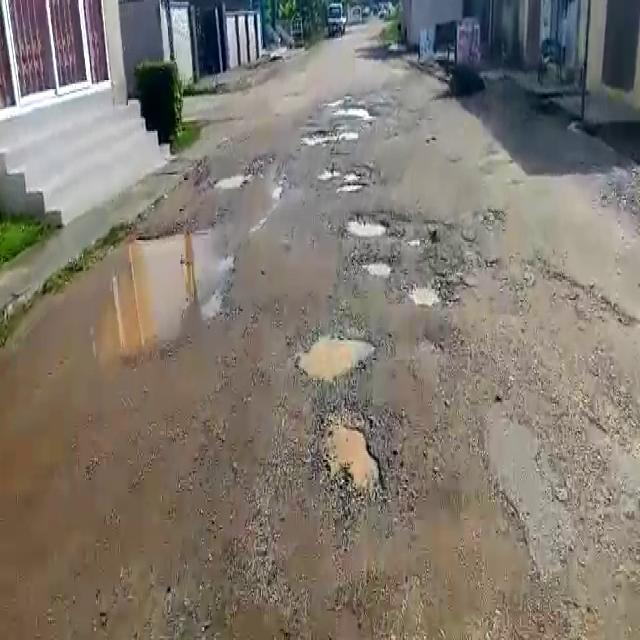Pothole: (27, 234, 235, 364), (314, 408, 386, 505), (295, 332, 374, 384), (403, 277, 457, 306), (339, 211, 392, 239), (319, 163, 368, 193), (329, 102, 376, 120), (359, 254, 396, 275), (216, 170, 251, 190)
